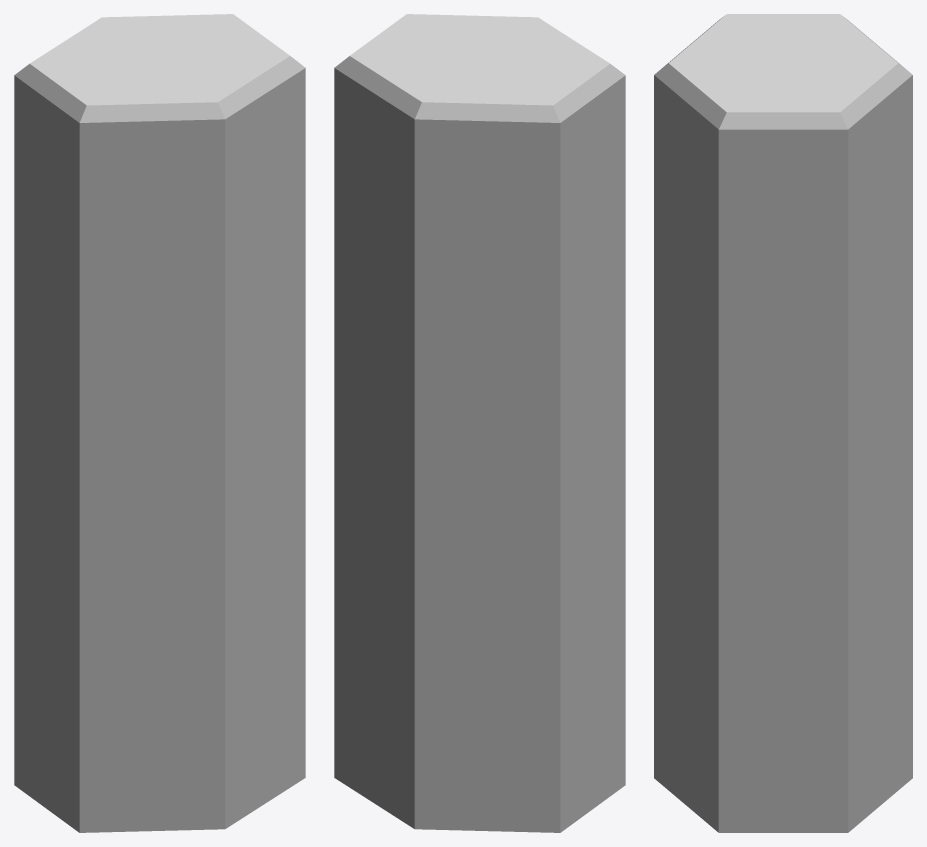
The model's file is Hexagon_W.fbx.
The picture shows the model from 3 angles, left to right: view 1: azimuth 30°, elevation 25°; view 2: azimuth 150°, elevation 25°; view 3: azimuth 270°, elevation 25°; orthographic projection.
Parts seen in each view (by area): view 1: Hexagon_W; view 2: Hexagon_W; view 3: Hexagon_W.
Part boxes in pixels (x1,y1,x2,y2): Hexagon_W: (14, 14, 305, 832); Hexagon_W: (334, 14, 625, 832); Hexagon_W: (654, 14, 912, 832).
Size of the model in its own units: 100 by 305 by 100.
